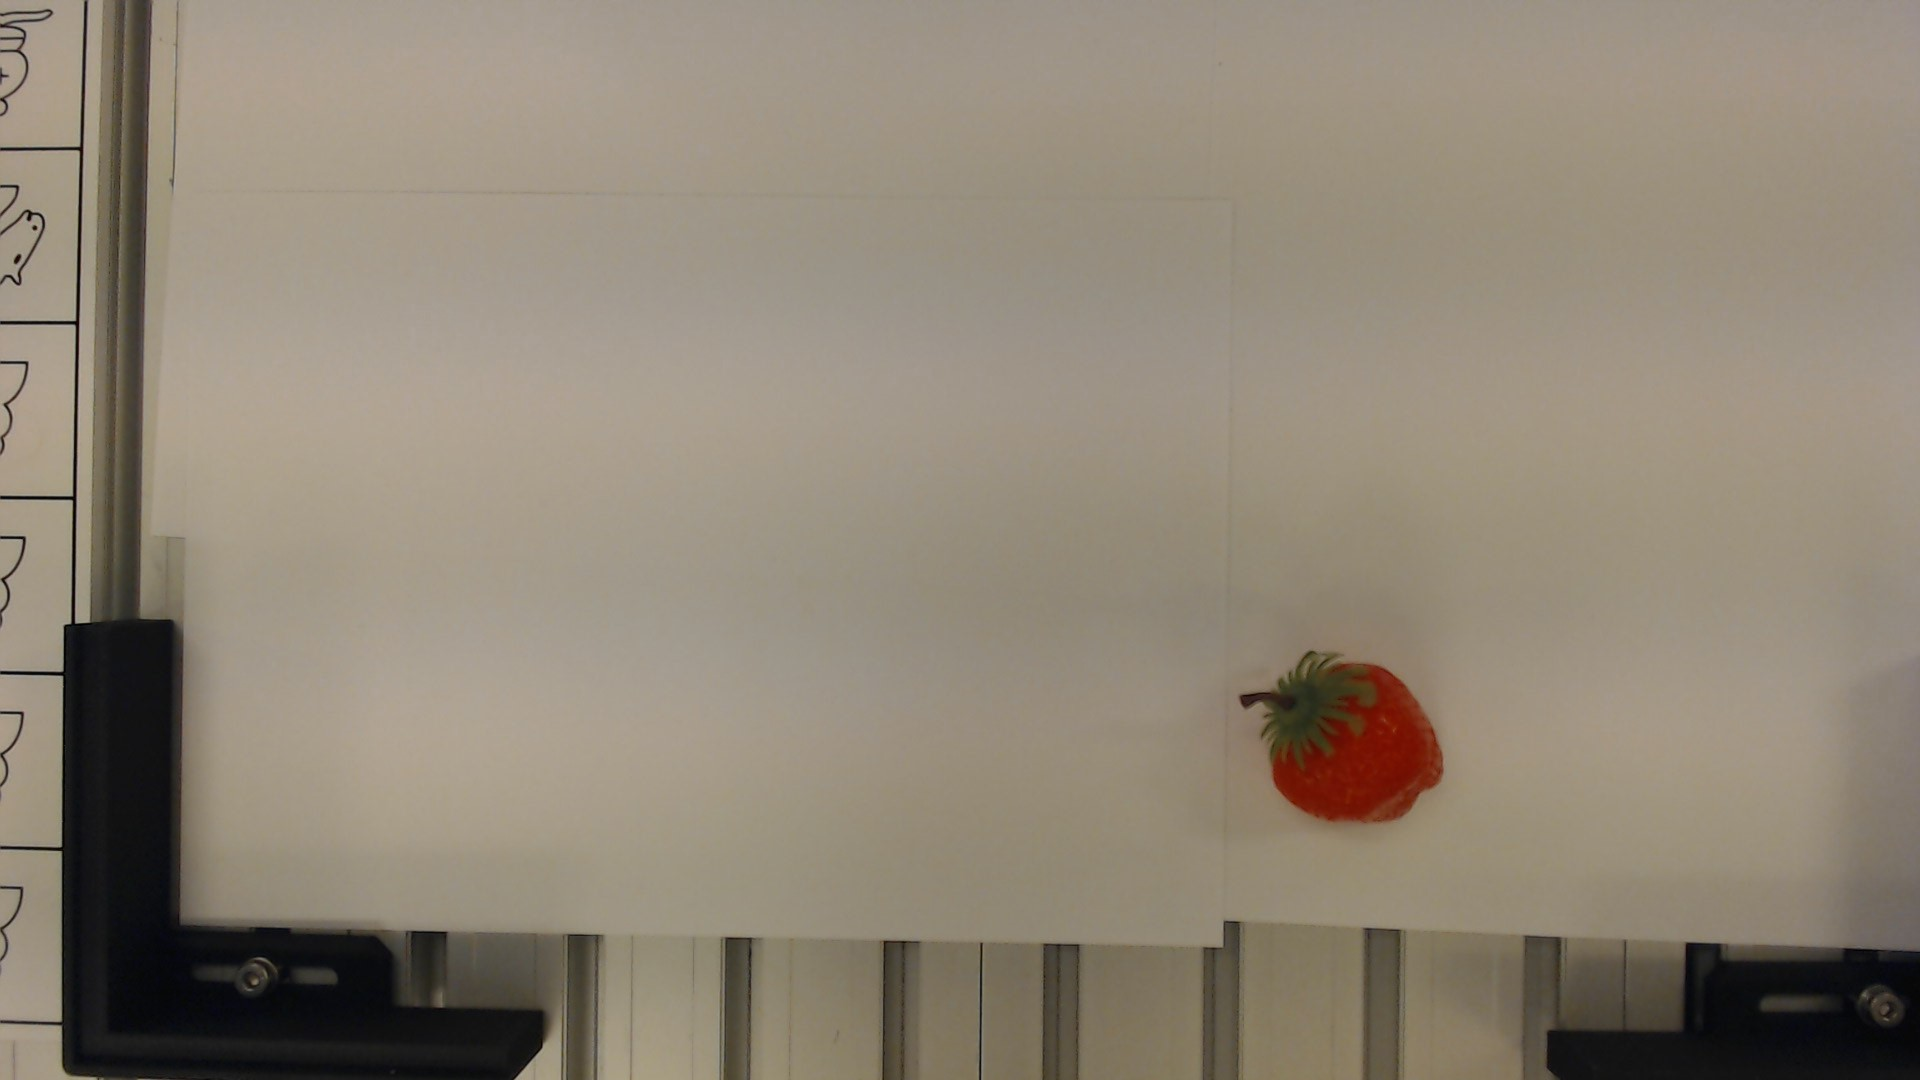Strawberry: (1229, 644, 1449, 828)
